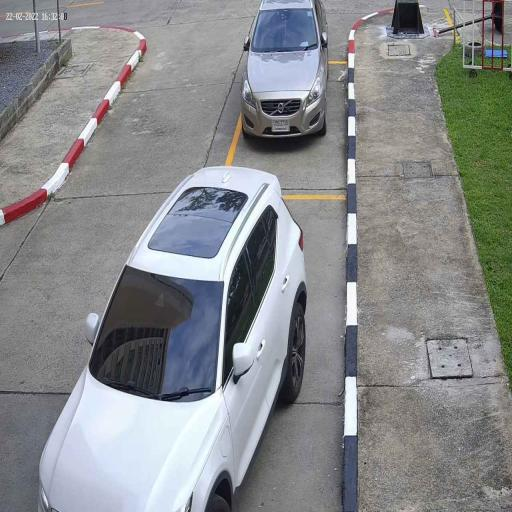car: (38, 164, 308, 512), (240, 0, 329, 144)
